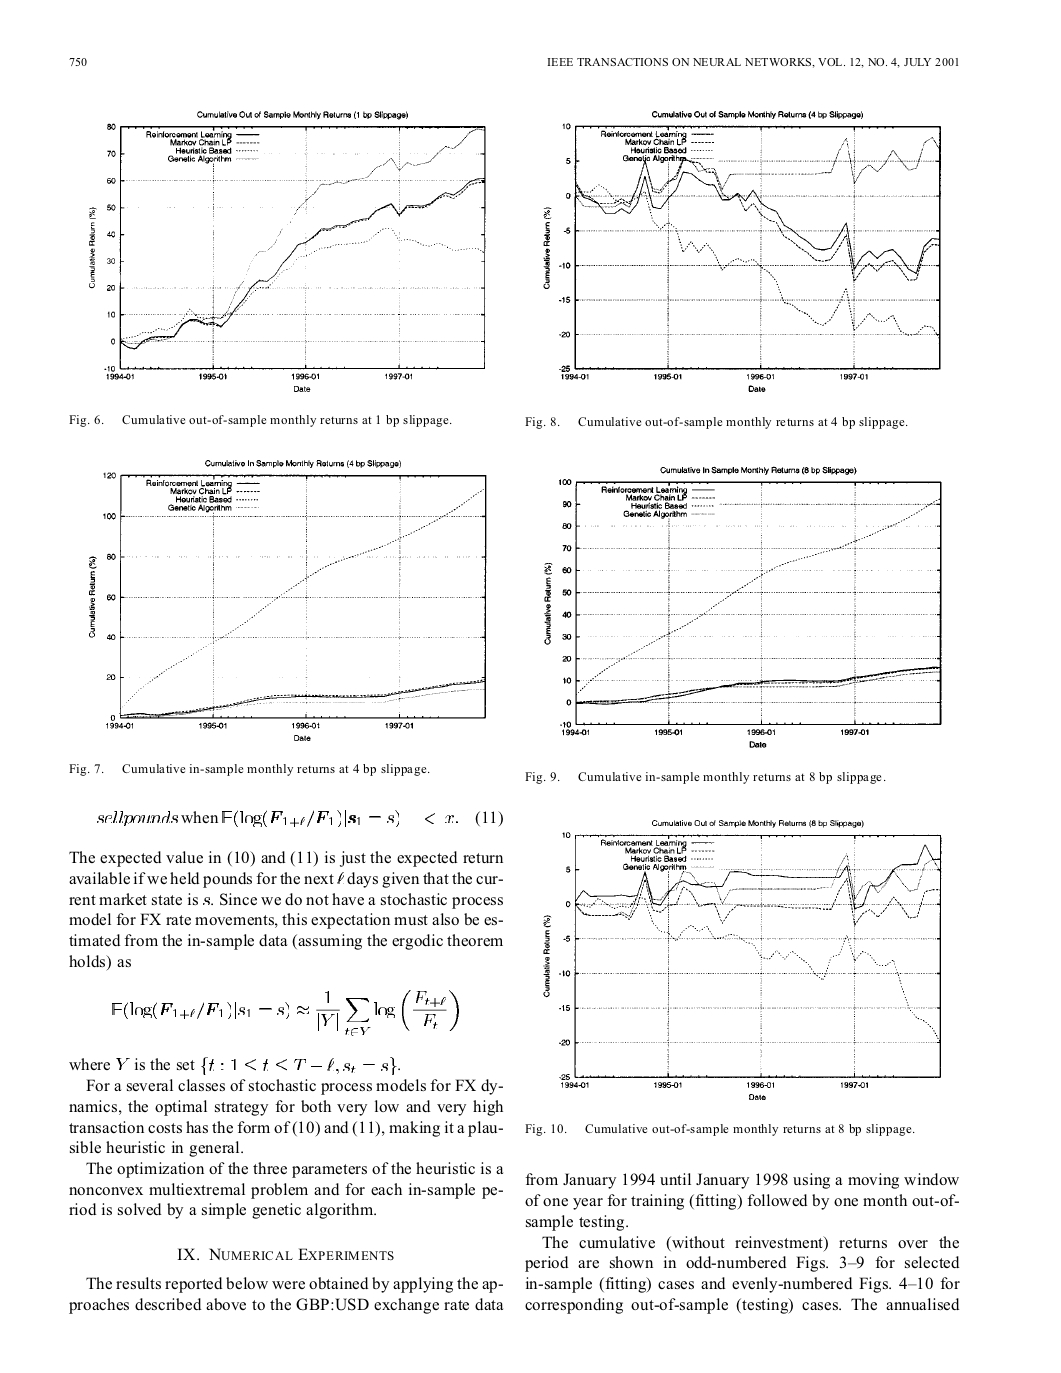figure: (543, 118, 940, 391), (544, 474, 941, 747), (89, 119, 485, 391), (89, 473, 486, 740), (543, 832, 941, 1099)
formula: (111, 989, 458, 1036), (97, 809, 502, 827)
